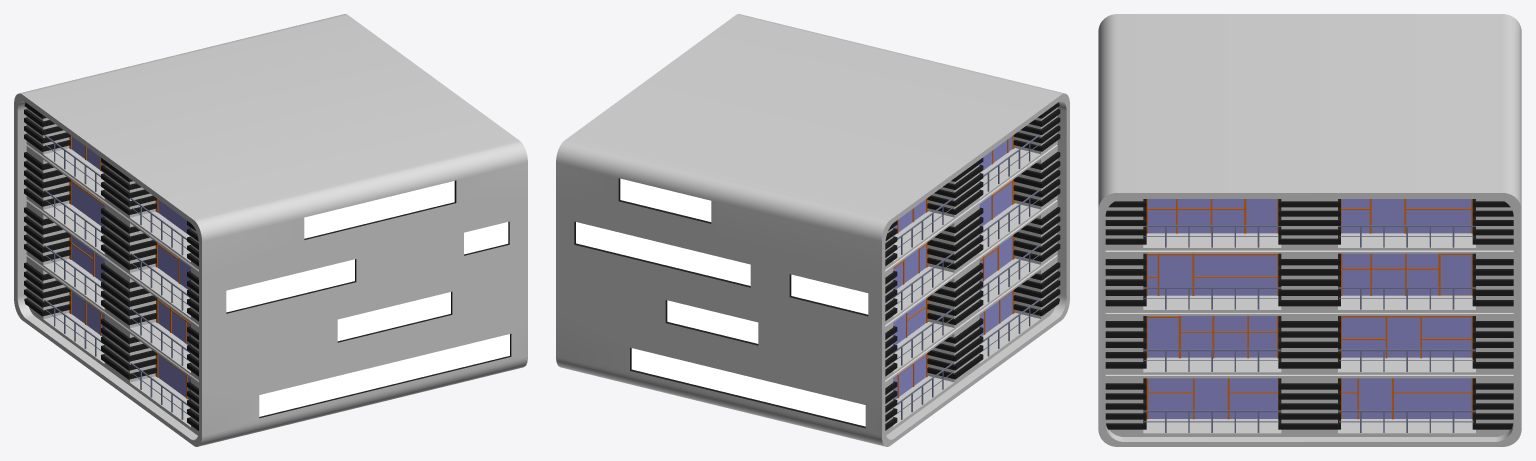
File: SM_B_i1_roof.fbx
The picture shows the model from 3 angles, left to right: view 1: azimuth 30°, elevation 25°; view 2: azimuth 150°, elevation 25°; view 3: azimuth 270°, elevation 25°; orthographic projection. The views are drawn at different scales.
Parts seen in each view (by area): view 1: Flor3; view 2: Flor3; view 3: Flor3.
Boxes of the visible parts, x1,y1,x2,y2 form: Flor3: [14, 14, 527, 446]; Flor3: [556, 14, 1069, 446]; Flor3: [1098, 14, 1521, 446].
Size of the model in its own units: 2000 by 1325 by 2000.
